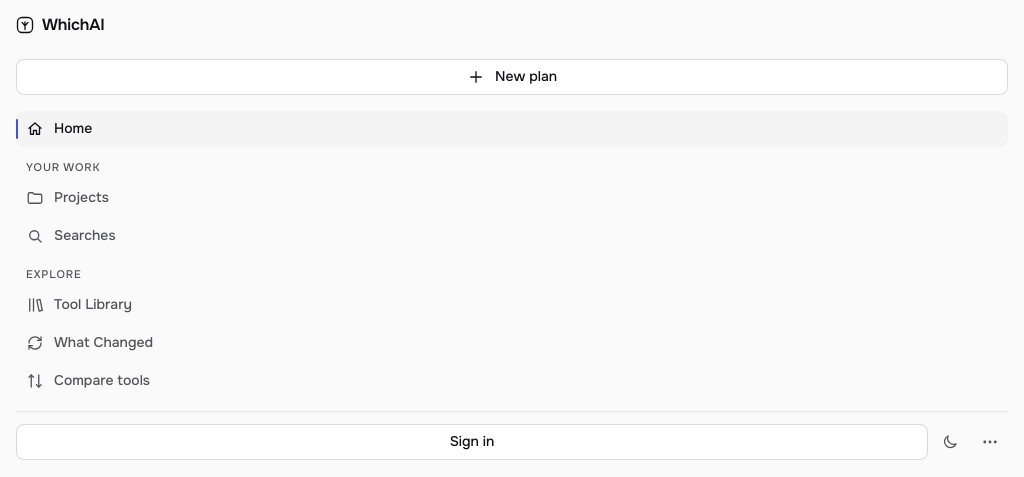
sidebar footer, signed out › opens More with Settings, Help, Plans & pricing and Language
Click the button named "More".
click(990, 442)  # box [972,424,1008,460]
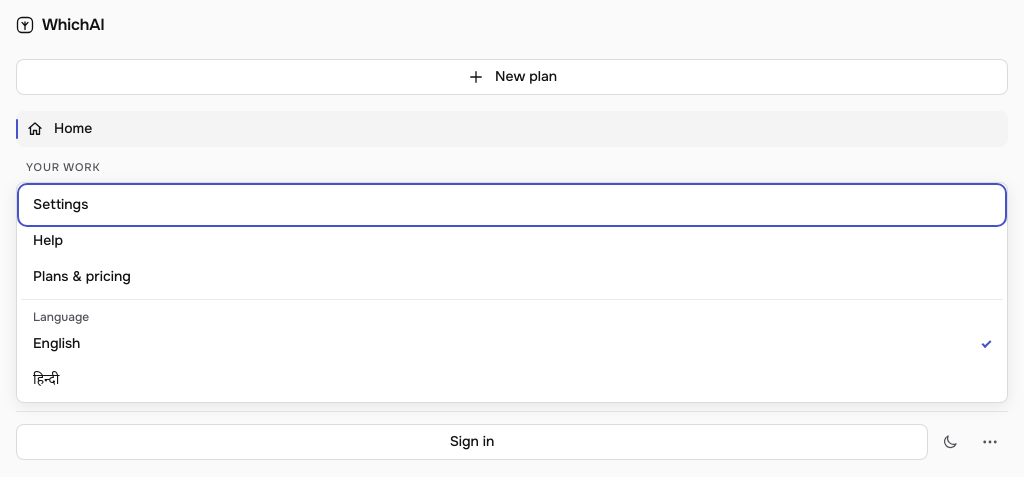
Expected: the menu items read "Settings", "Help", "Plans & pricing", in this order, [33,195,88,213]; [33,231,63,249]; [33,267,131,285]
Expected: the menu item "English" is checked, [21,326,1003,362]
